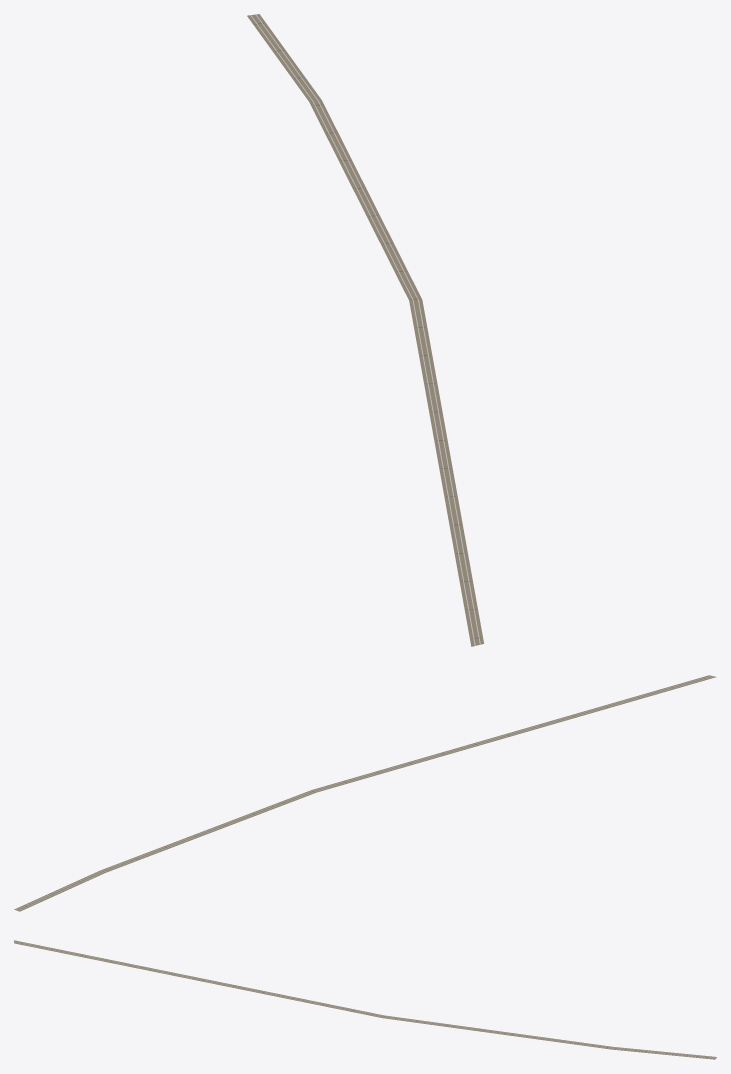
3 renders of one model, top to bottom at view 1: azimuth 30°, elevation 25°; view 2: azimuth 150°, elevation 25°; view 3: azimuth 270°, elevation 25°, orthographic. The views are drawn at different scales.
Parts seen in each view (by area): view 1: rail; view 2: rail; view 3: rail.
Part boxes in pixels (x1,y1,x2,y2): rail: (247, 14, 483, 646); rail: (14, 675, 716, 911); rail: (14, 940, 716, 1059).
Bounding box in the file's own units: 152 × 0.04 × 378.
